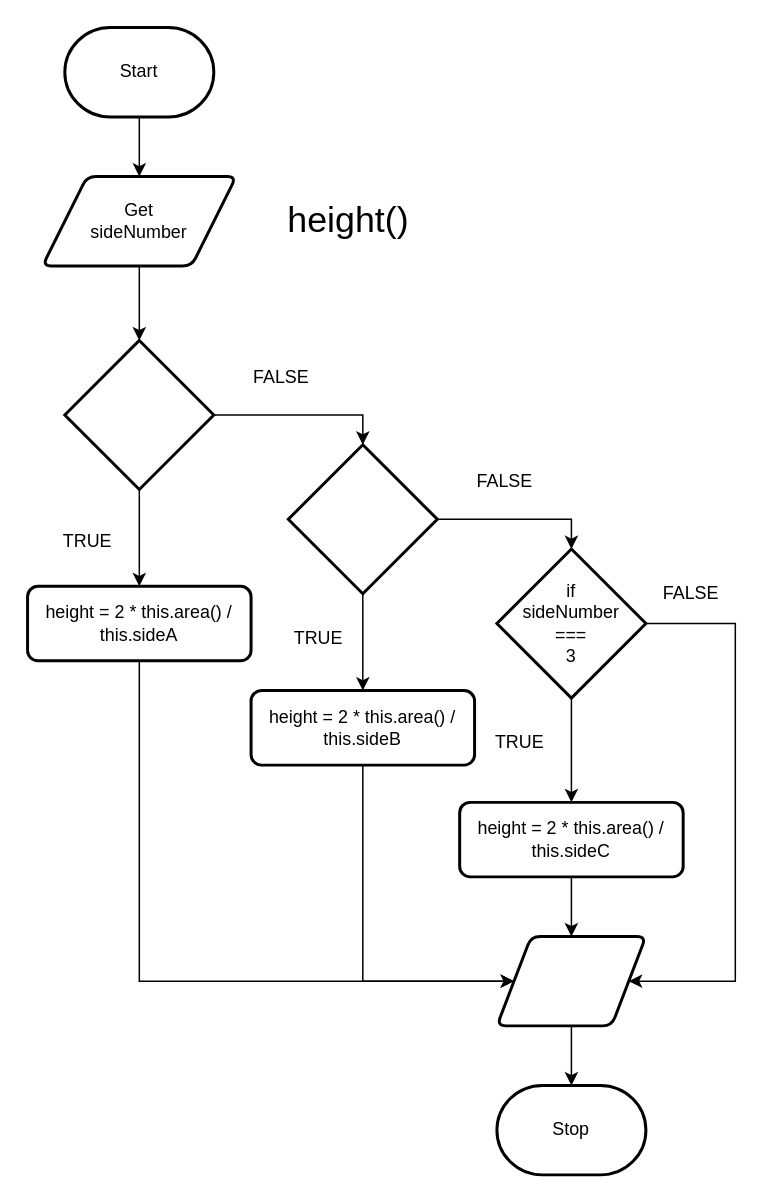
The diagram is 773 pixels wide and 1201 high, and some of its shapes have lost their labels. The box of each missing label's shape, as (x1, y1, x2, y2) in pixels:
if sideNumber === 1: (63, 338, 215, 490)
if sideNumber === 2: (286, 443, 438, 595)
return height: (495, 934, 647, 1027)
